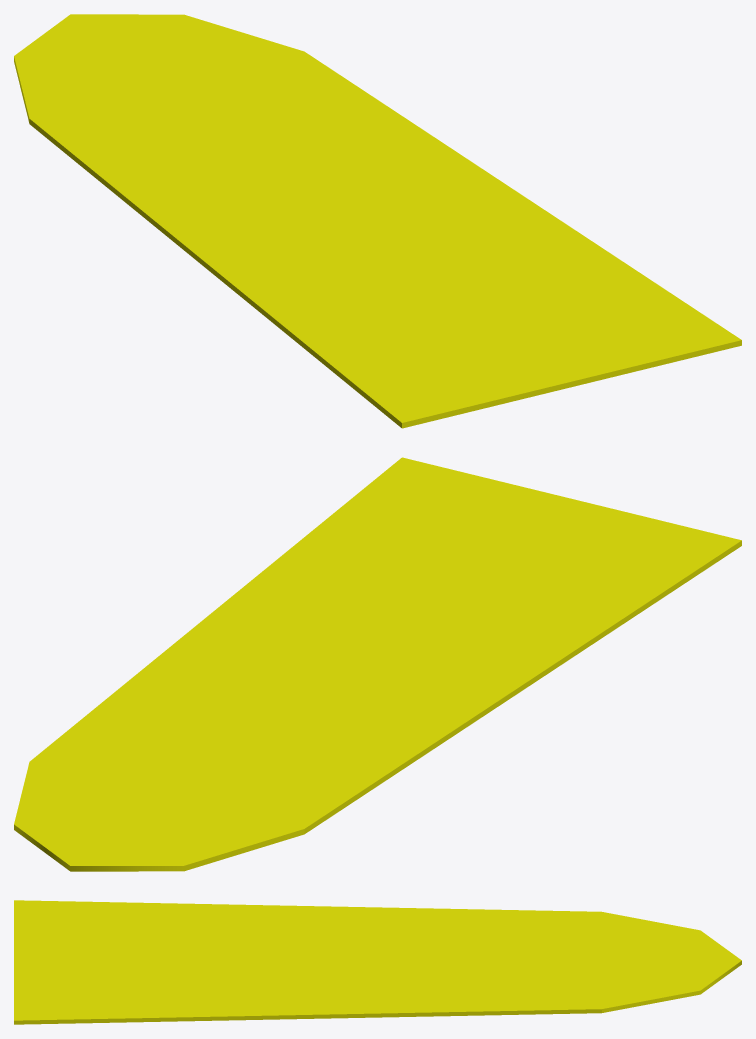
Rendered from m_rug.fbx.
3 views of the same model, one above another, from view 1: azimuth 30°, elevation 25°; view 2: azimuth 150°, elevation 25°; view 3: azimuth 270°, elevation 25° (orthographic). The views are drawn at different scales.
Visible parts, largest first — view 1: m_rug; view 2: m_rug; view 3: m_rug.
Part boxes in pixels (<box>): m_rug: <box>14,14,741,428</box>; m_rug: <box>14,457,741,871</box>; m_rug: <box>14,900,741,1024</box>.
Size of the model in its own units: 2.84 by 0.0443 by 7.25.
